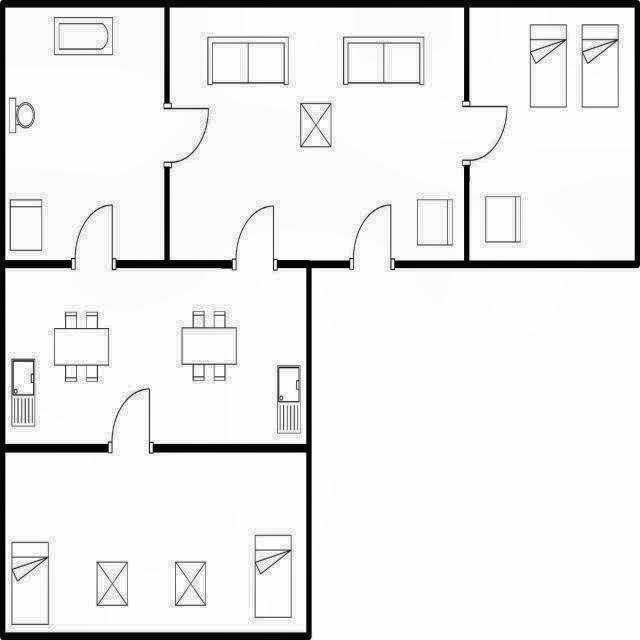room: (5, 268, 306, 633), (169, 7, 464, 261), (469, 7, 635, 261), (5, 7, 164, 260)
